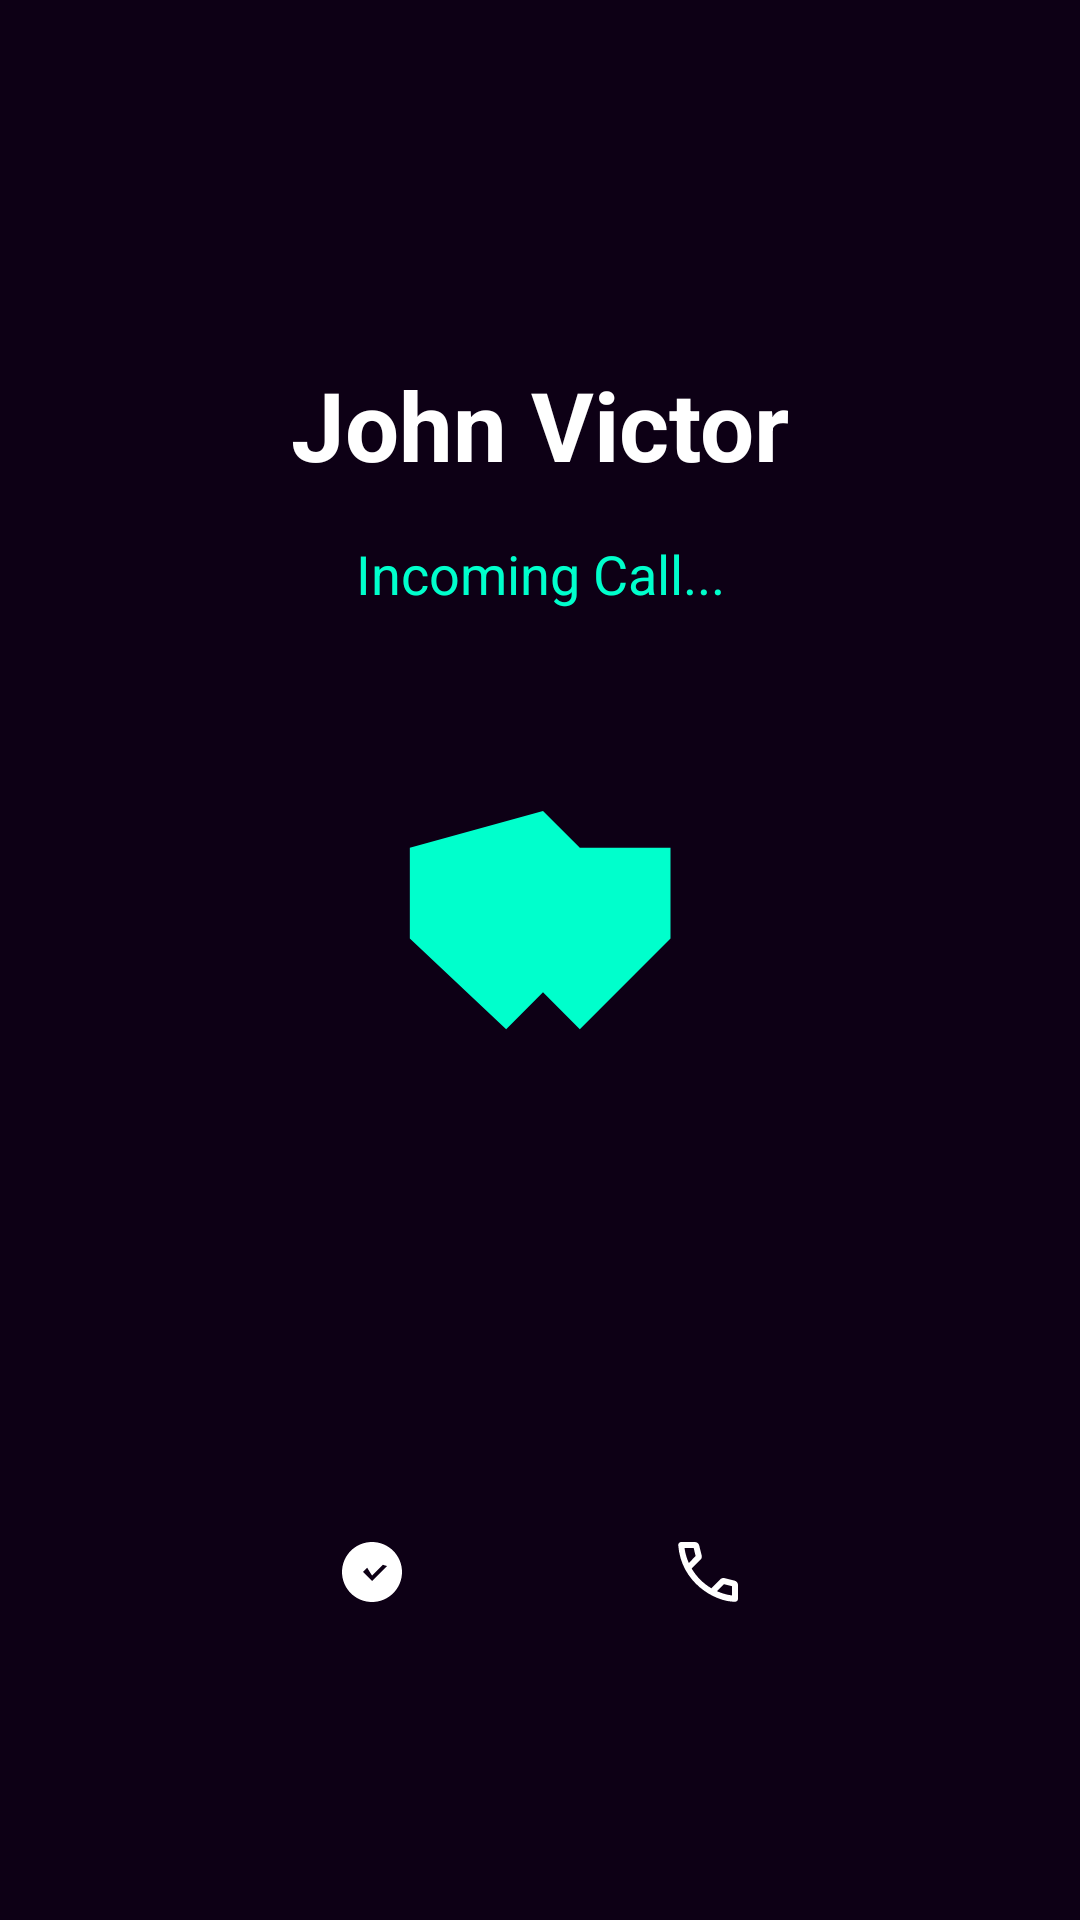

Named icons in this screenshot (1080×1920) and their bounding boxes, [x1,y1,x2,y2]:
Answer: [678,1542,738,1602]
